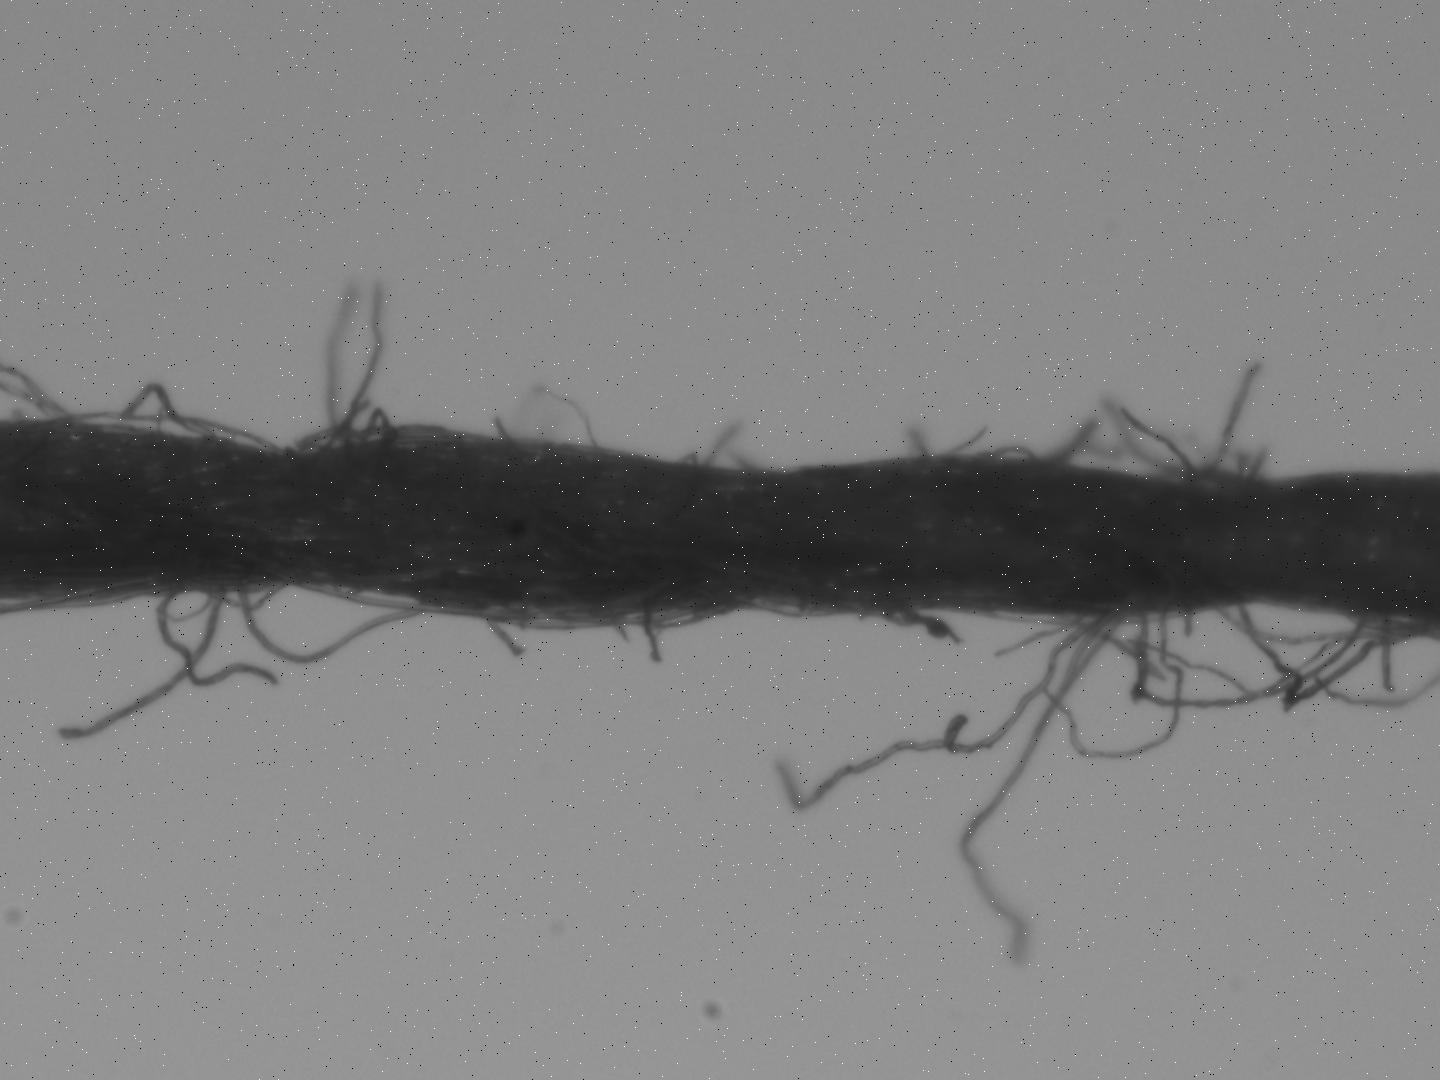loop_fiber: (1140, 606, 1374, 710), (239, 580, 431, 661), (53, 406, 269, 454), (739, 594, 862, 624), (982, 440, 1048, 461), (362, 406, 395, 446), (489, 408, 518, 438)
protruding_fiber: (965, 615, 1125, 968), (59, 588, 227, 741), (1115, 402, 1206, 491), (333, 278, 381, 449), (478, 615, 525, 661), (645, 604, 662, 659)
